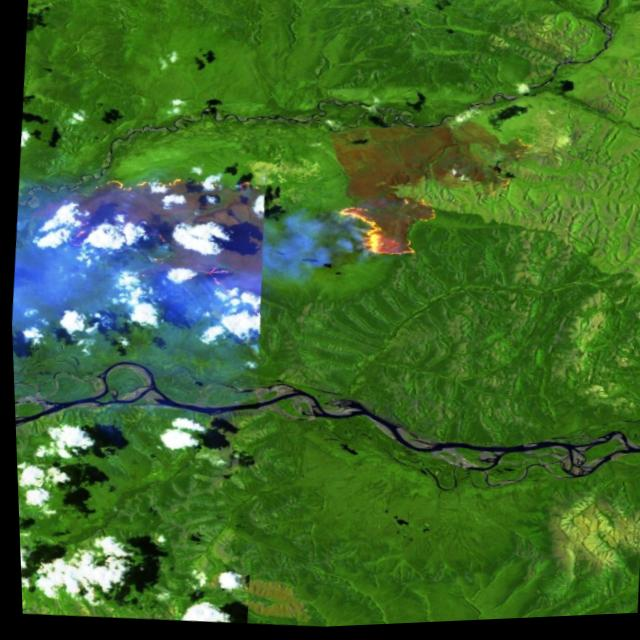fire: (79, 158, 266, 219), (325, 189, 441, 268)
